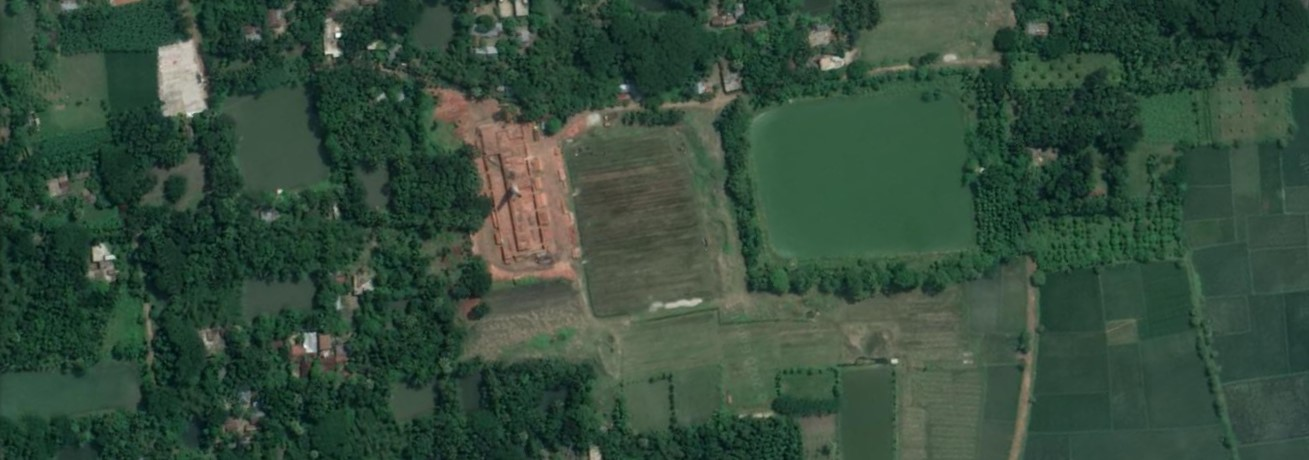kiln: (491, 130, 566, 268)
